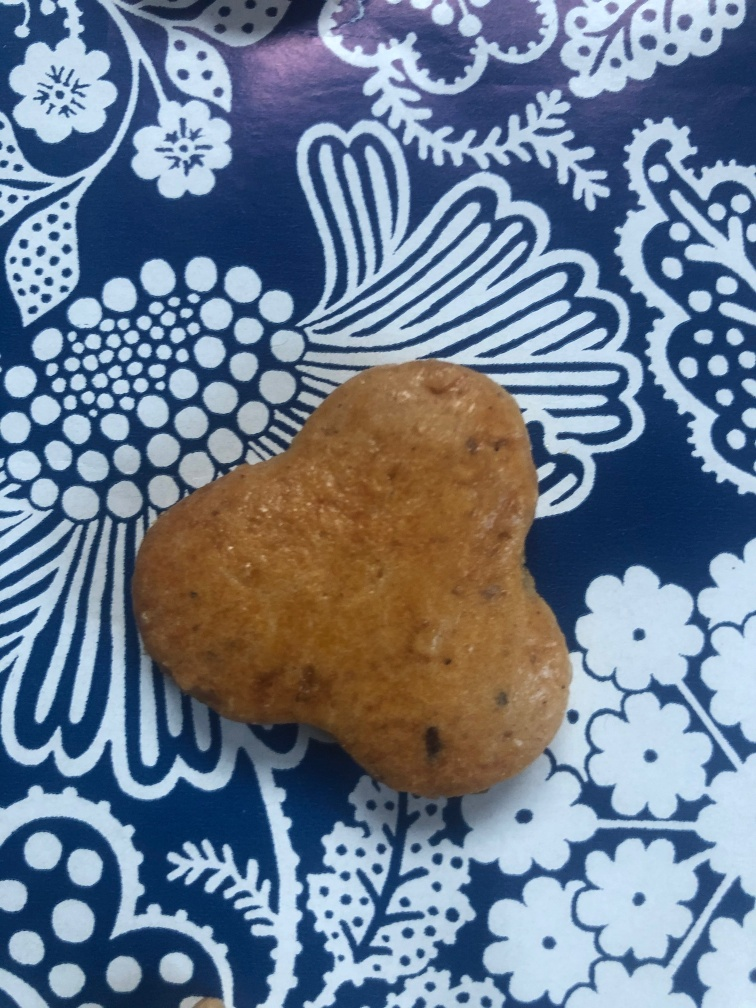flake: (127, 357, 580, 793)
